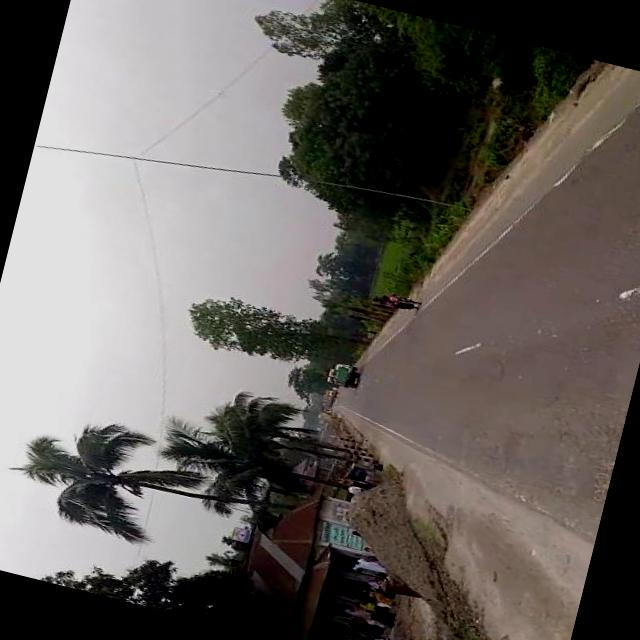bus: (332, 360, 356, 372)
motorcycle: (368, 288, 418, 314)
truck: (321, 364, 357, 389), (322, 388, 335, 398), (321, 394, 334, 402)
